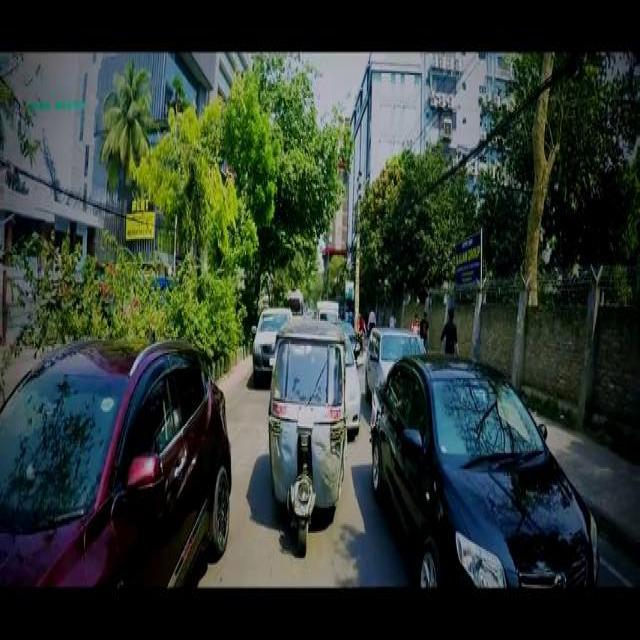car: (0, 331, 231, 587), (369, 352, 597, 591), (364, 325, 424, 393)
pickup: (316, 298, 338, 317)
suv: (252, 306, 292, 366)
three wheelers -CNG-: (266, 315, 342, 550)
